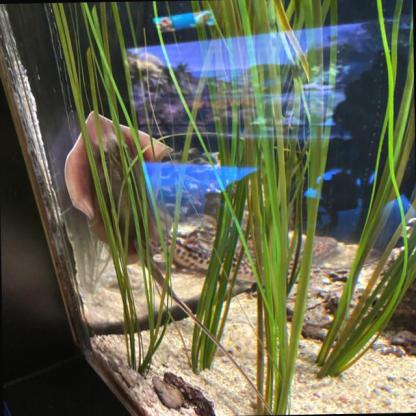stingray: (62, 109, 176, 266)
